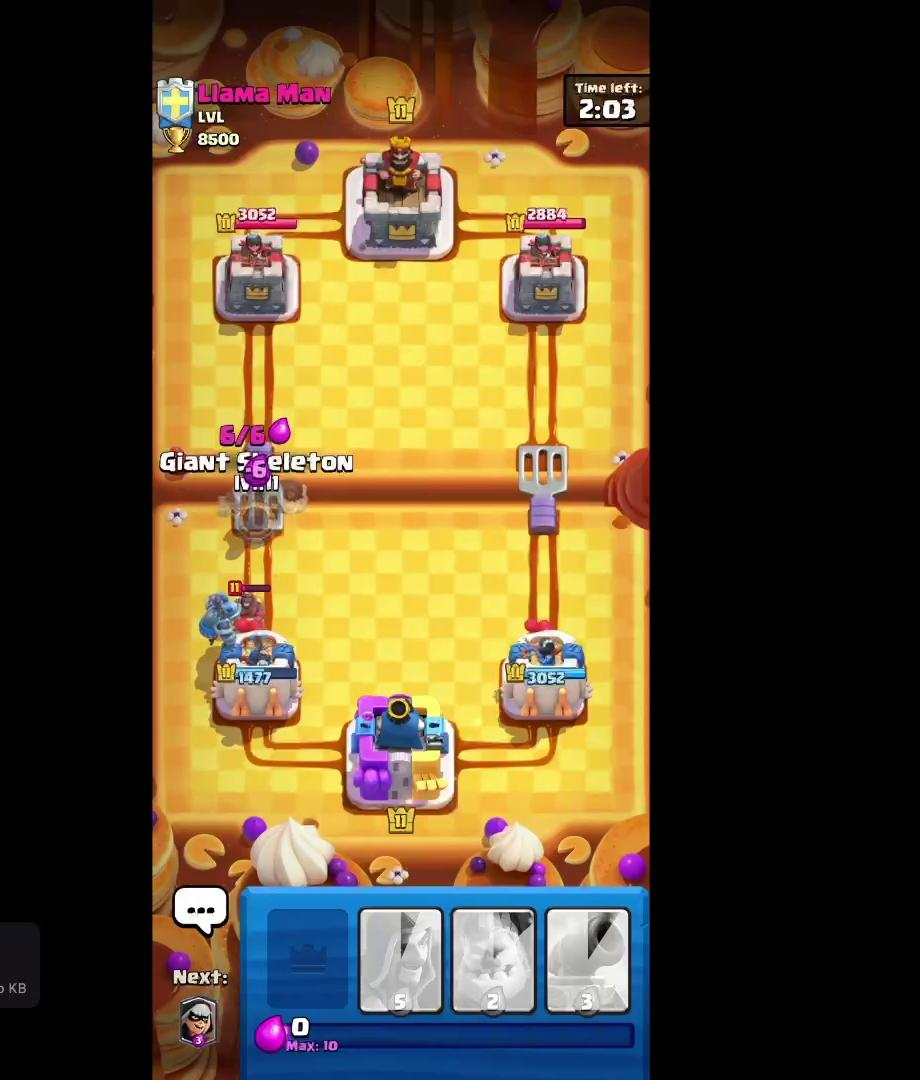Hog Rider: (227, 580, 271, 633)
